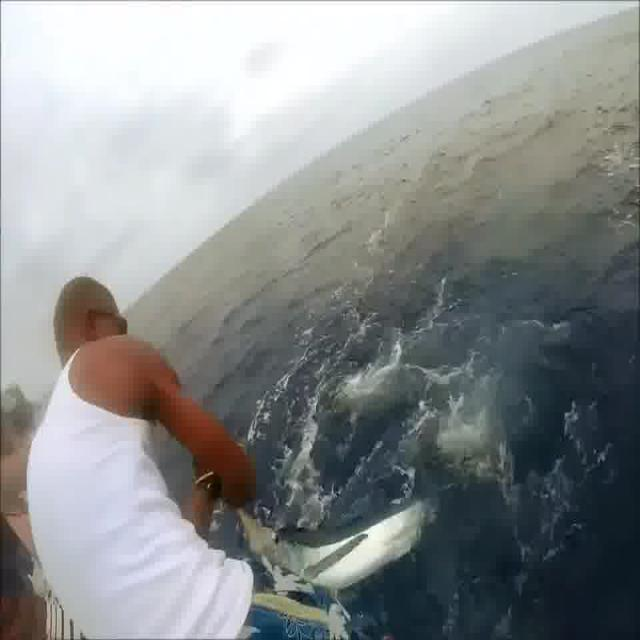White Marlin: (233, 497, 427, 603)
